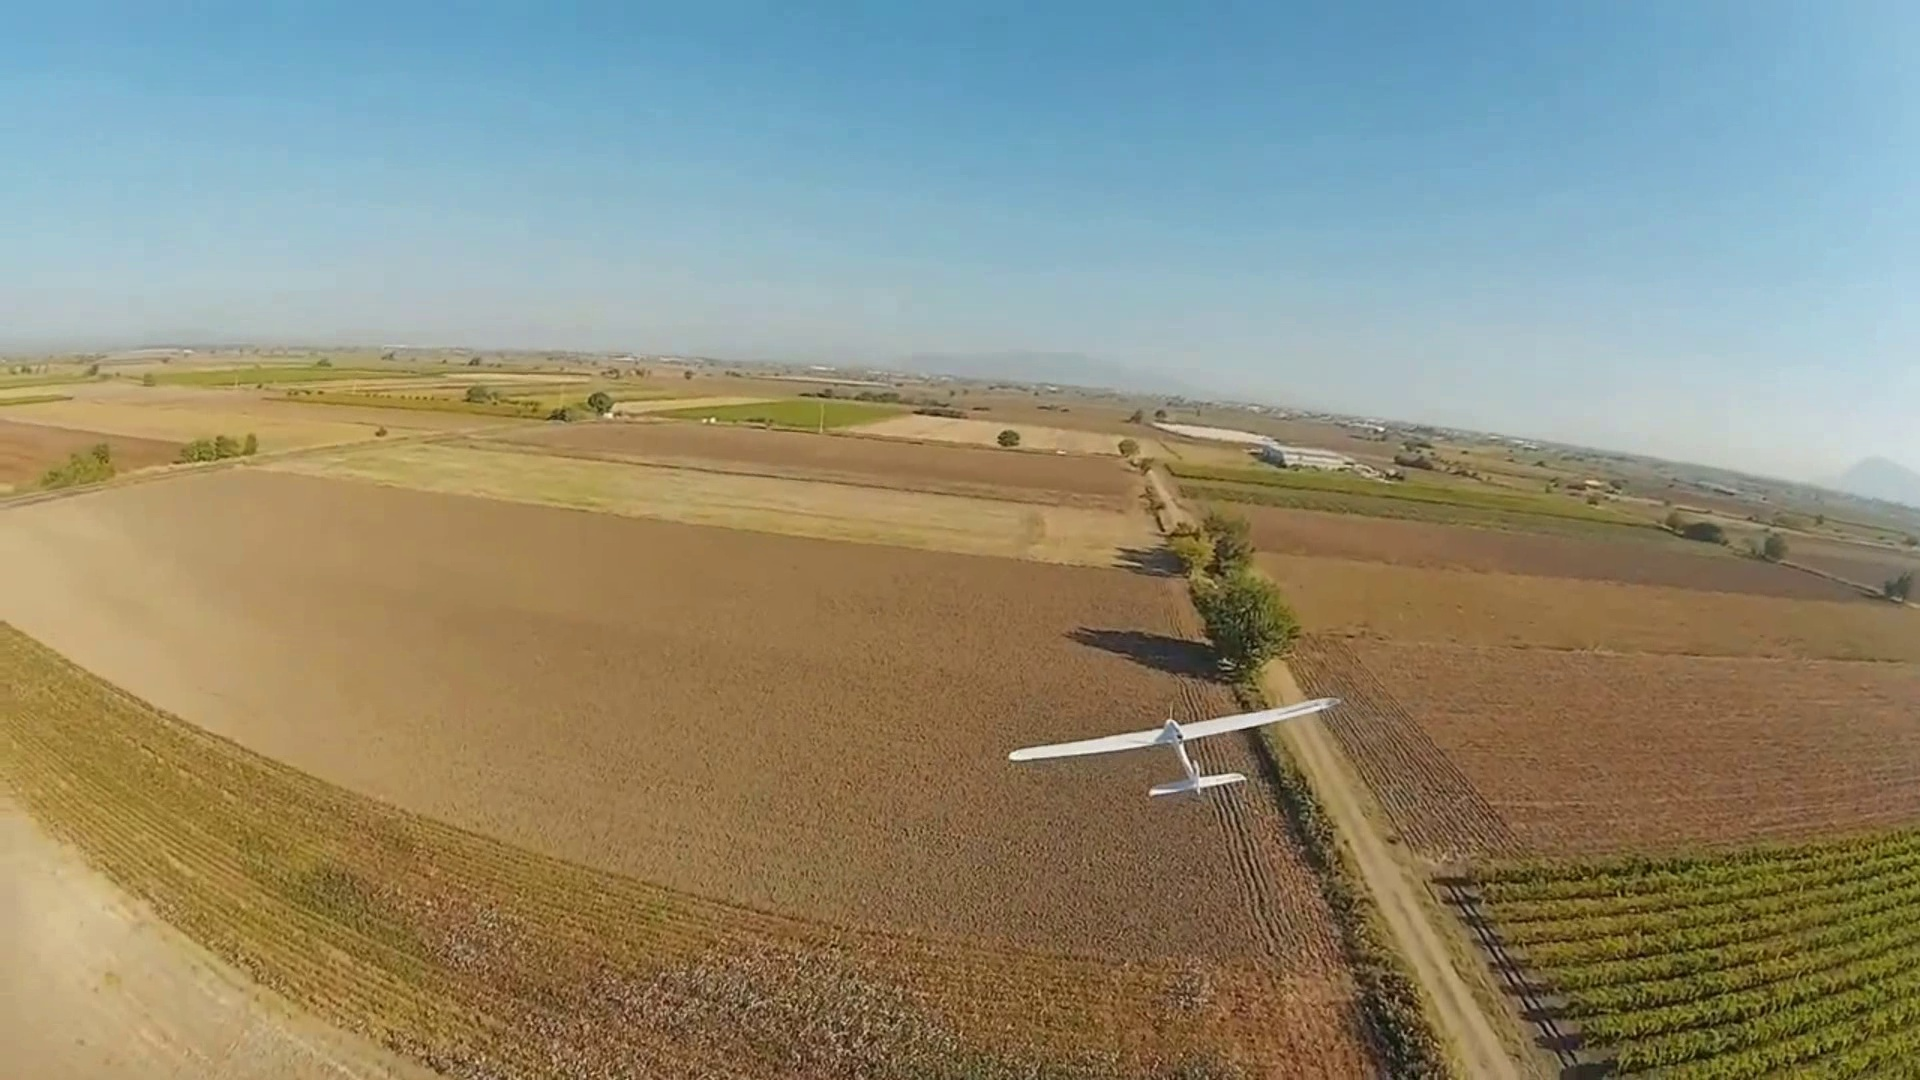airplane: (1005, 689, 1344, 804)
